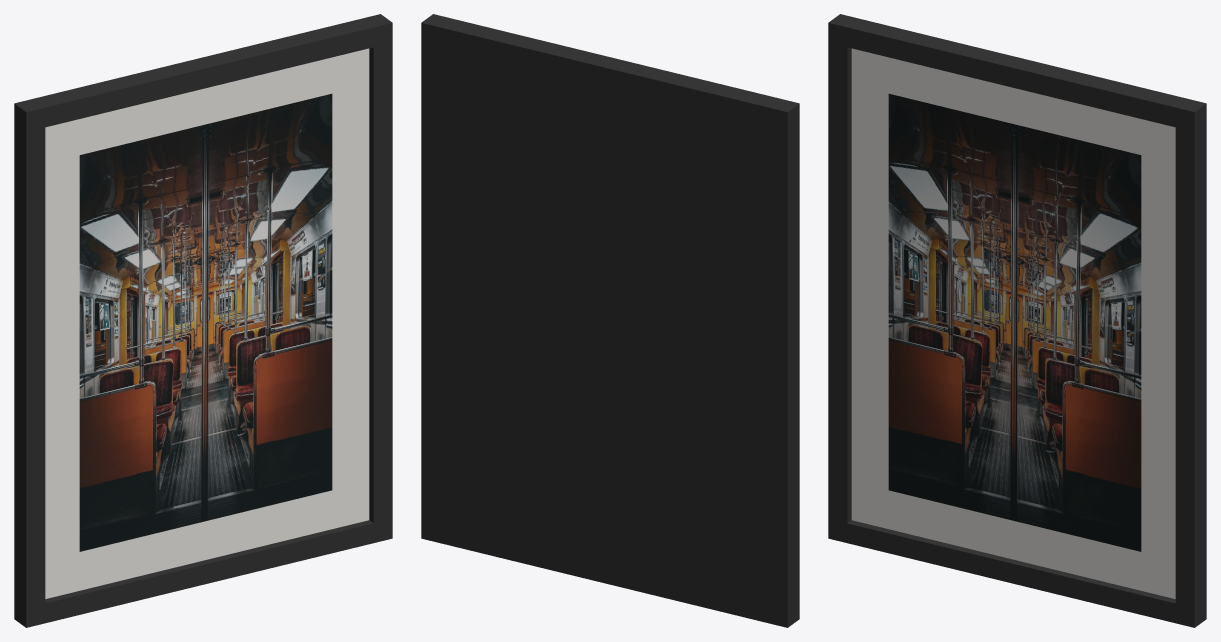
Rendered from vagnen-40.gltf.
3 renders of one model, left to right at view 1: azimuth 30°, elevation 25°; view 2: azimuth 150°, elevation 25°; view 3: azimuth 330°, elevation 25°, orthographic.
Parts seen in each view (by area): view 1: tavla; view 2: tavla; view 3: tavla.
Part boxes in pixels (x1,y1,x2,y2): tavla: (14,14,392,627); tavla: (421,14,799,627); tavla: (828,14,1206,627).
Size of the model in its own units: 0.3867 by 0.52 by 0.022.
3 materials, 1 textured.
